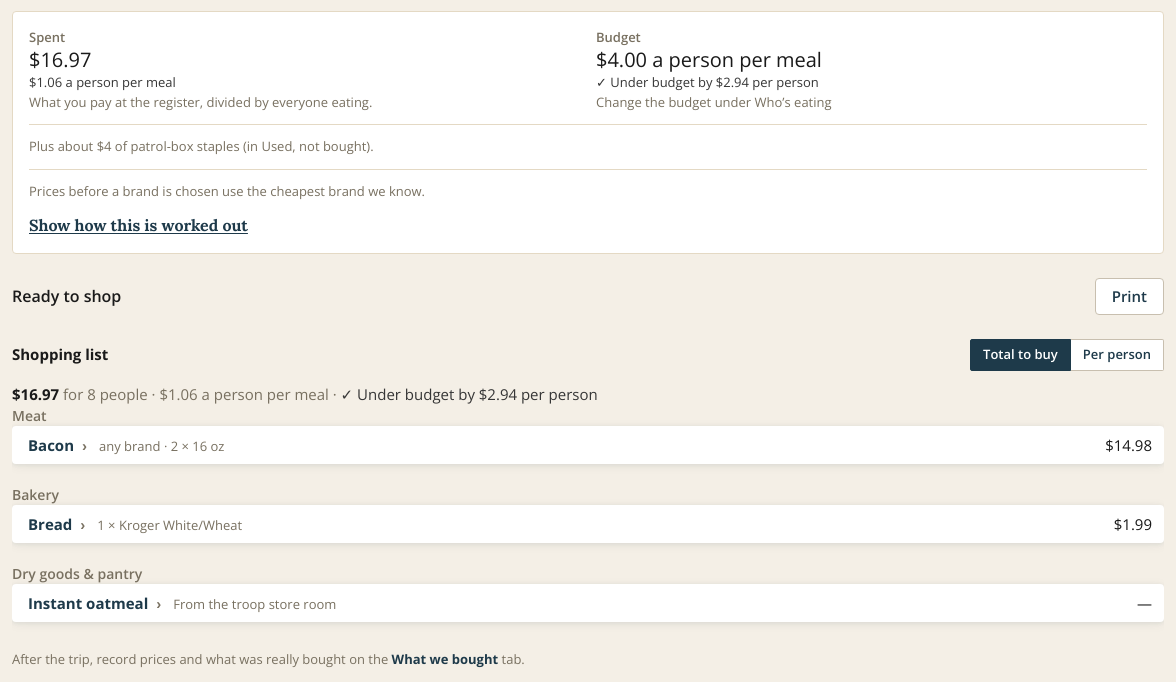
Test: Shopping tab — Updated › BringingItFromHome_ShowsUpdated
Click the button "Bread ›" at x=57, y=524, box [28,513,85,535]
(page scrolled)
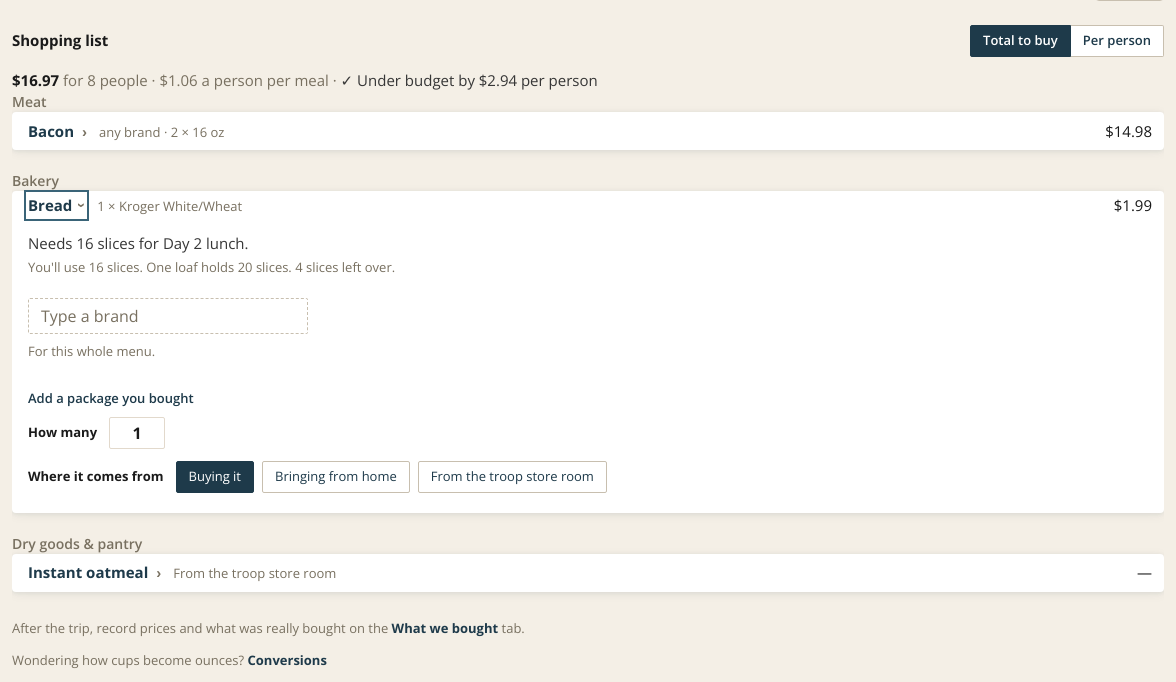
Click the button "Bringing from home" at x=336, y=476, box [262,460,410,492]
(page scrolled)
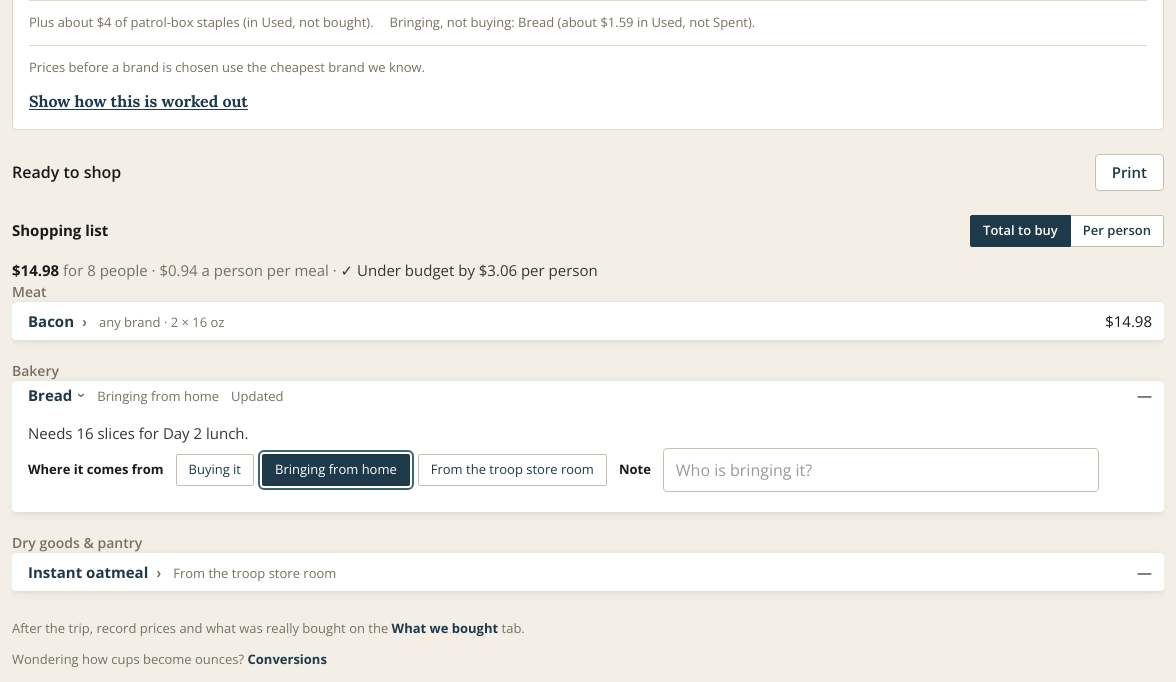
Check: the text "Updated" is shown, box [231,387,284,406]
